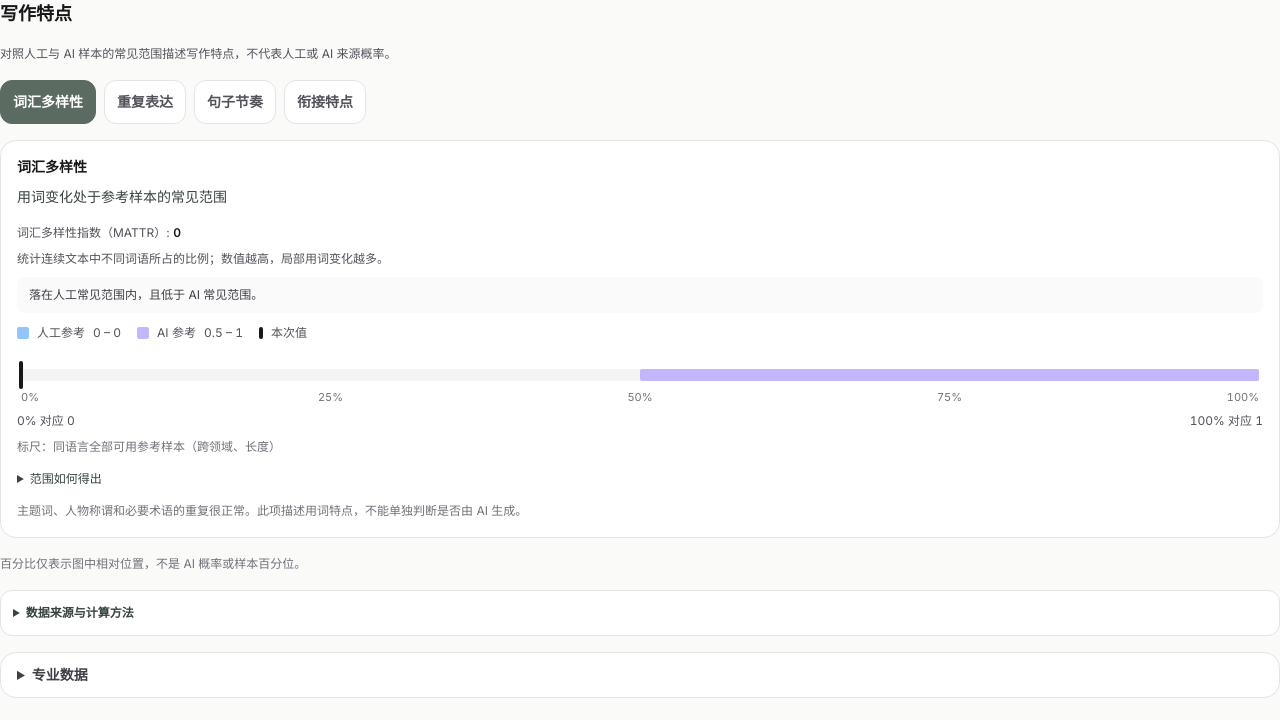
Test case: EvidencePanel › 所有语言均移除词汇列表，重复词组和句首示例仍保留原次数和安全边界
Check: the element with test id "evidence-explanation" is shown, box [0,140,1279,538]
Check: the element with test id "evidence-professional" is shown, box [0,652,1279,698]
Click the button "重复表达".
click(145, 102)  # box [104,80,186,124]
(page scrolled)
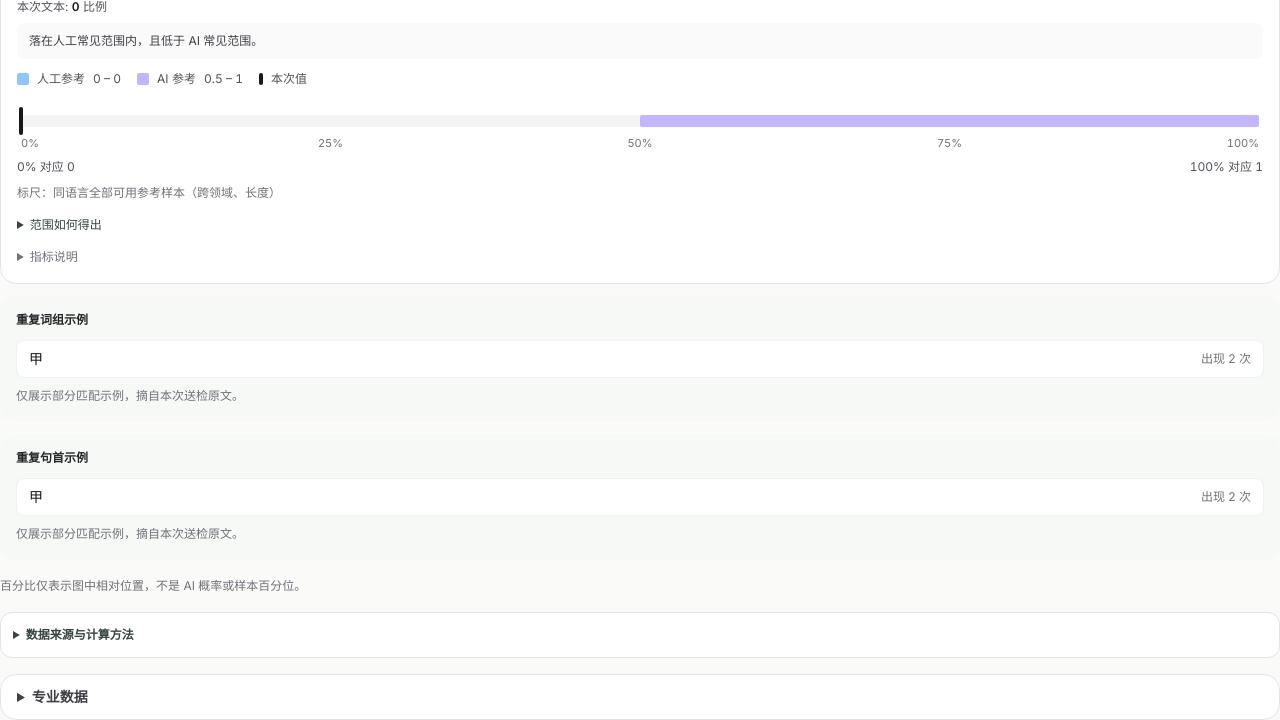
Check: the number of elements with test id "evidence-examples" is 2, box [0,296,1279,422]; [0,434,1279,560]
Check: the list item "甲 出现 2 次" below "重复词组示例" is shown, box [16,340,1264,378]
Check: the element with test id "evidence-examples" shows "仅展示部分匹配示例，摘自本次送检原文。", box [16,388,244,403]
